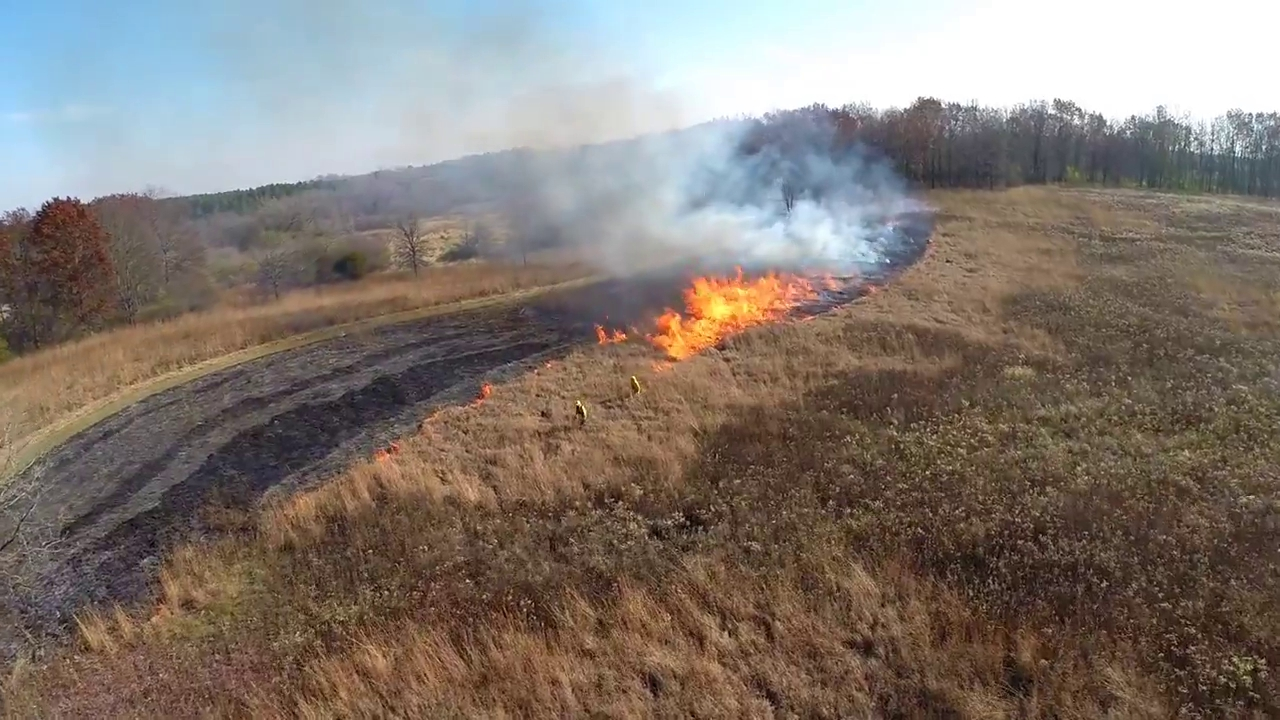forest_fire: (644, 270, 816, 360), (595, 325, 627, 343), (473, 382, 492, 403)
